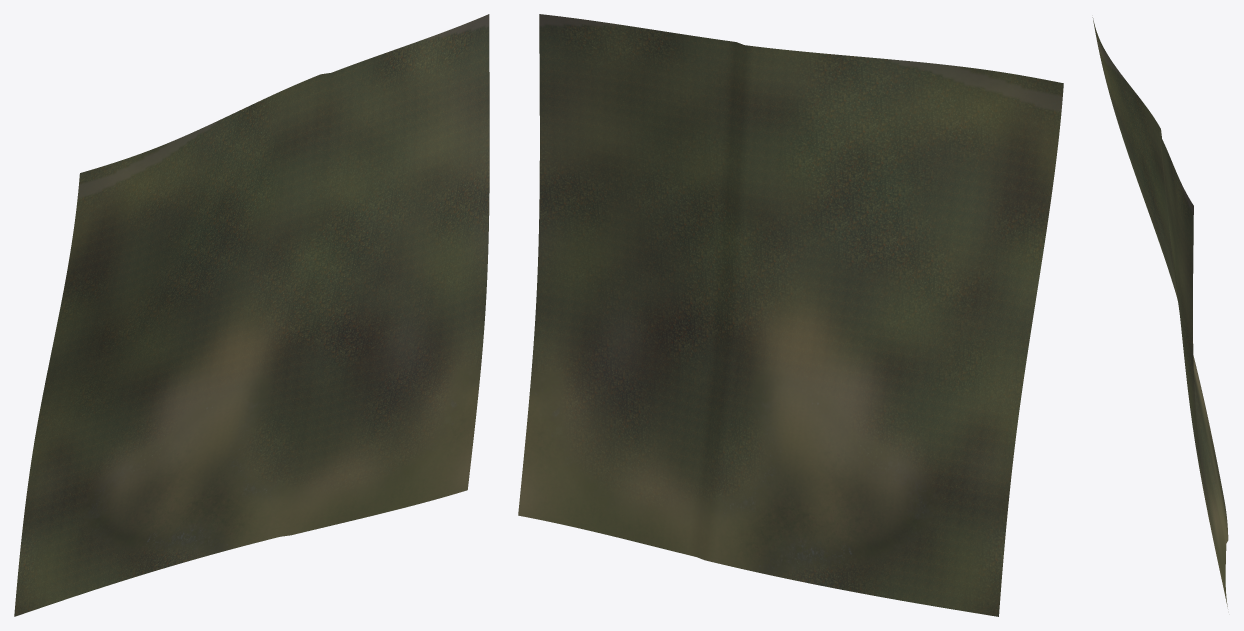
Rendered from ground_core_02_05.obj.
The picture shows the model from 3 angles, left to right: view 1: azimuth 30°, elevation 25°; view 2: azimuth 150°, elevation 25°; view 3: azimuth 270°, elevation 25°; orthographic projection. The views are drawn at different scales.
Parts seen in each view (by area): view 1: ground_core_02_05; view 2: ground_core_02_05; view 3: ground_core_02_05.
Boxes of the visible parts, box(x1,y1,x2,y2) form: ground_core_02_05: box(14, 14, 489, 616); ground_core_02_05: box(518, 14, 1063, 616); ground_core_02_05: box(1092, 17, 1228, 606).
Size of the model in its own units: 50 by 50 by 15.15.
1 material, 1 textured.
